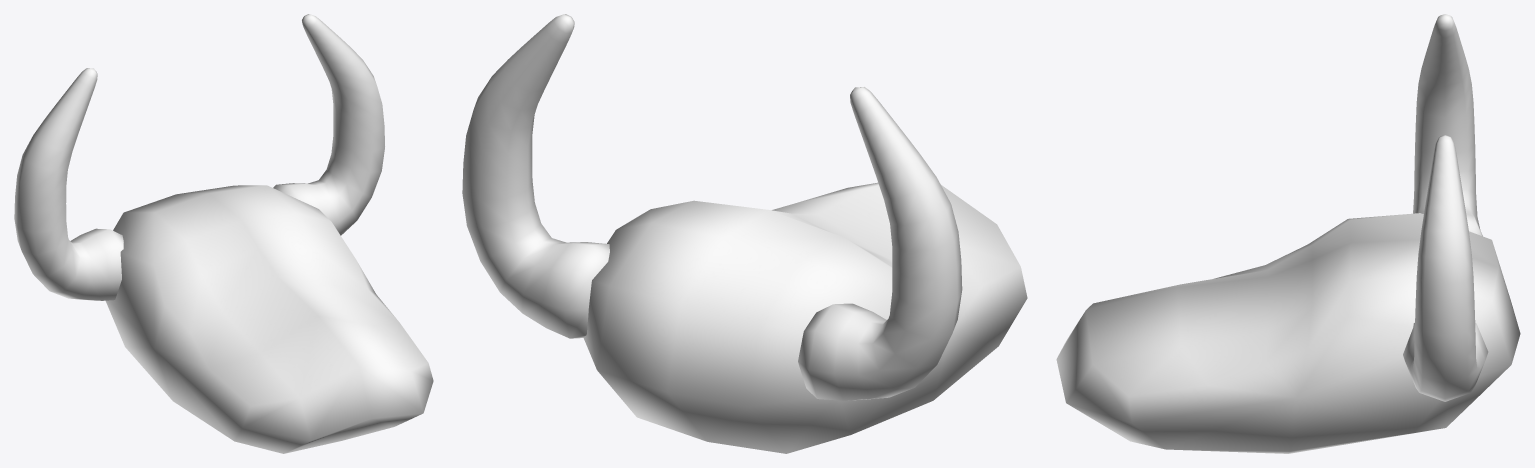
Rendered from AnimalSkull.fbx.
The picture shows the model from 3 angles, left to right: view 1: azimuth 30°, elevation 25°; view 2: azimuth 150°, elevation 25°; view 3: azimuth 270°, elevation 25°; orthographic projection. The views are drawn at different scales.
Parts seen in each view (by area): view 1: Horns; view 2: Horns; view 3: Horns.
Boxes of the visible parts, box(x1,y1,x2,y2) form: Horns: box(14, 14, 433, 453); Horns: box(462, 14, 1027, 453); Horns: box(1056, 14, 1520, 453).
Size of the model in its own units: 42.8 by 34.91 by 41.85.
1 material, 1 textured.
